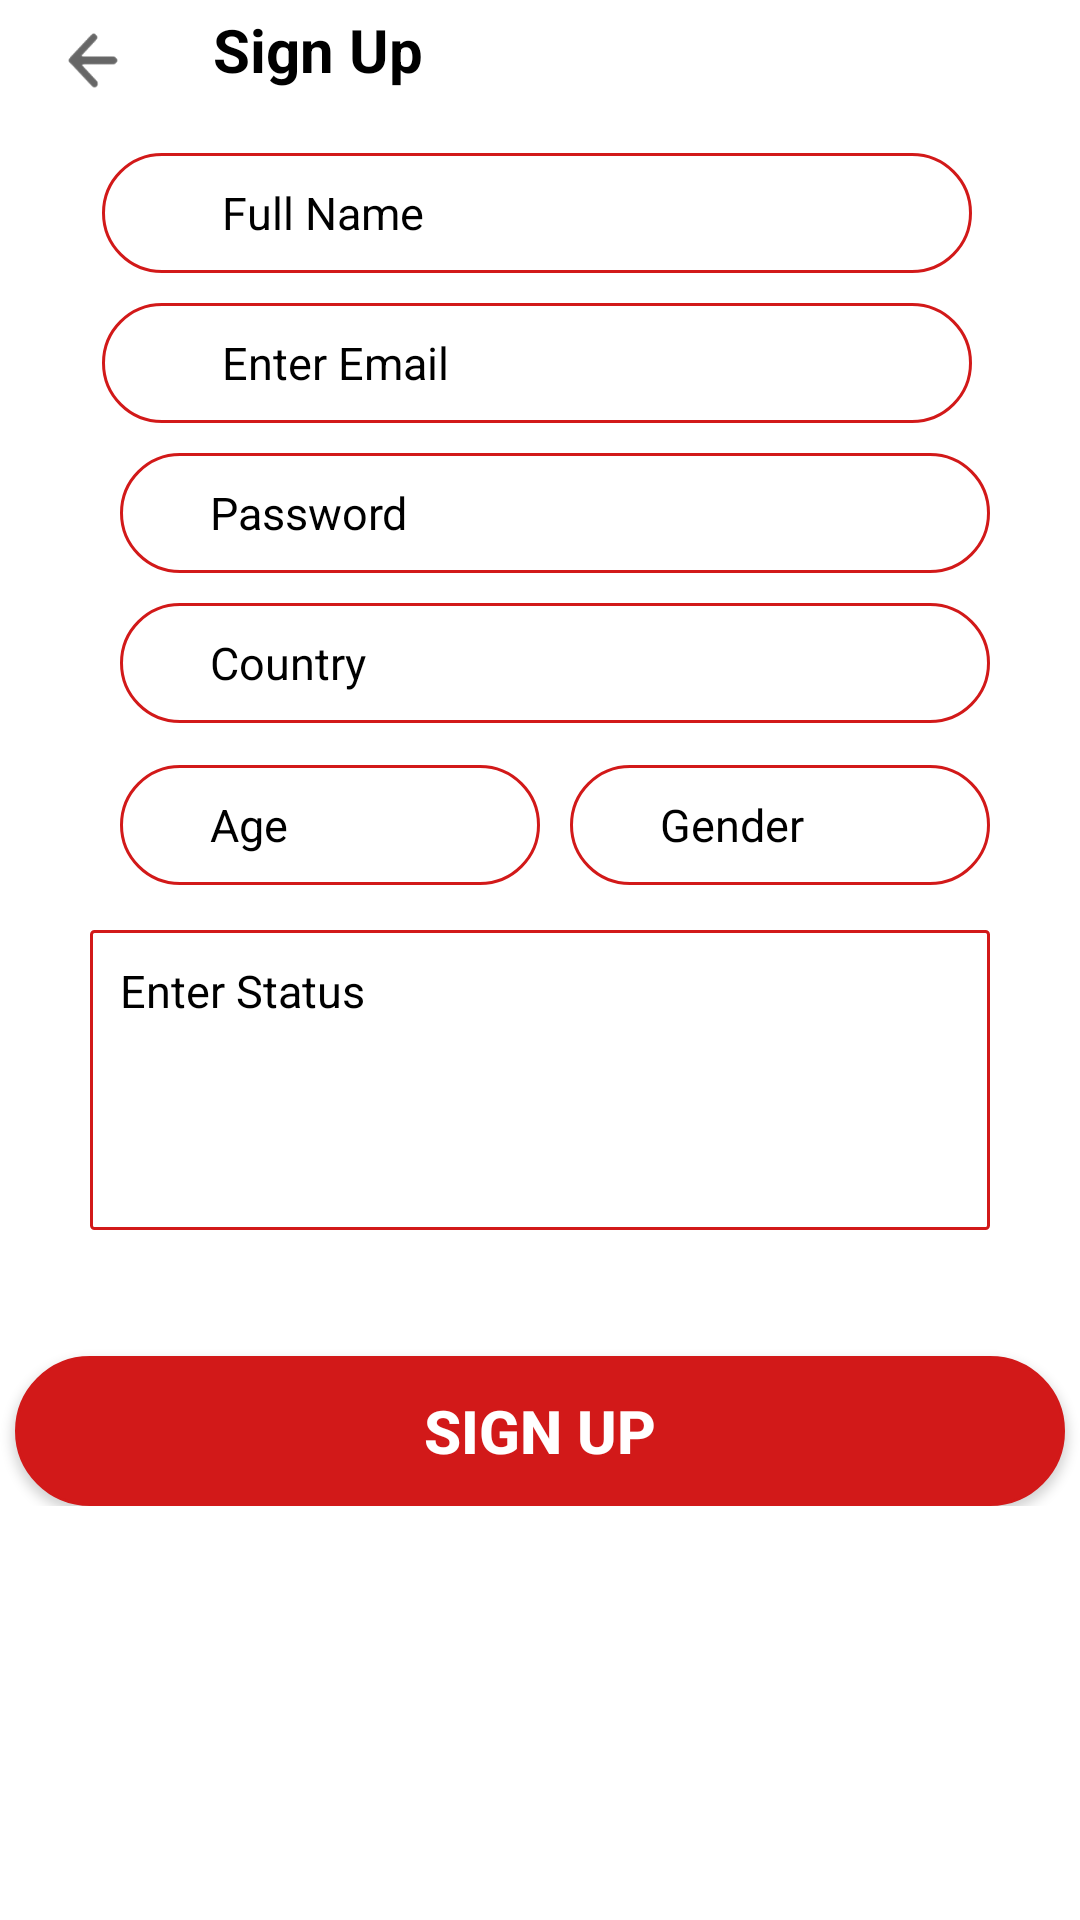

Icon click points for this 1080px×1920px phone screenshot, format point (x, y):
back: point (93, 60)
